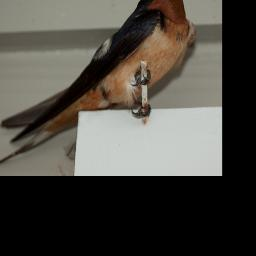Swallow: (0, 0, 190, 167)
